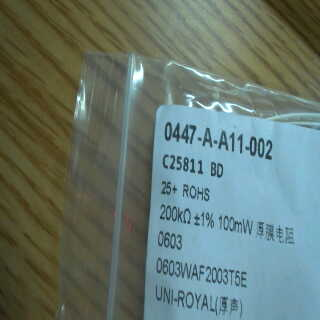200kR: (158, 202, 194, 227)
